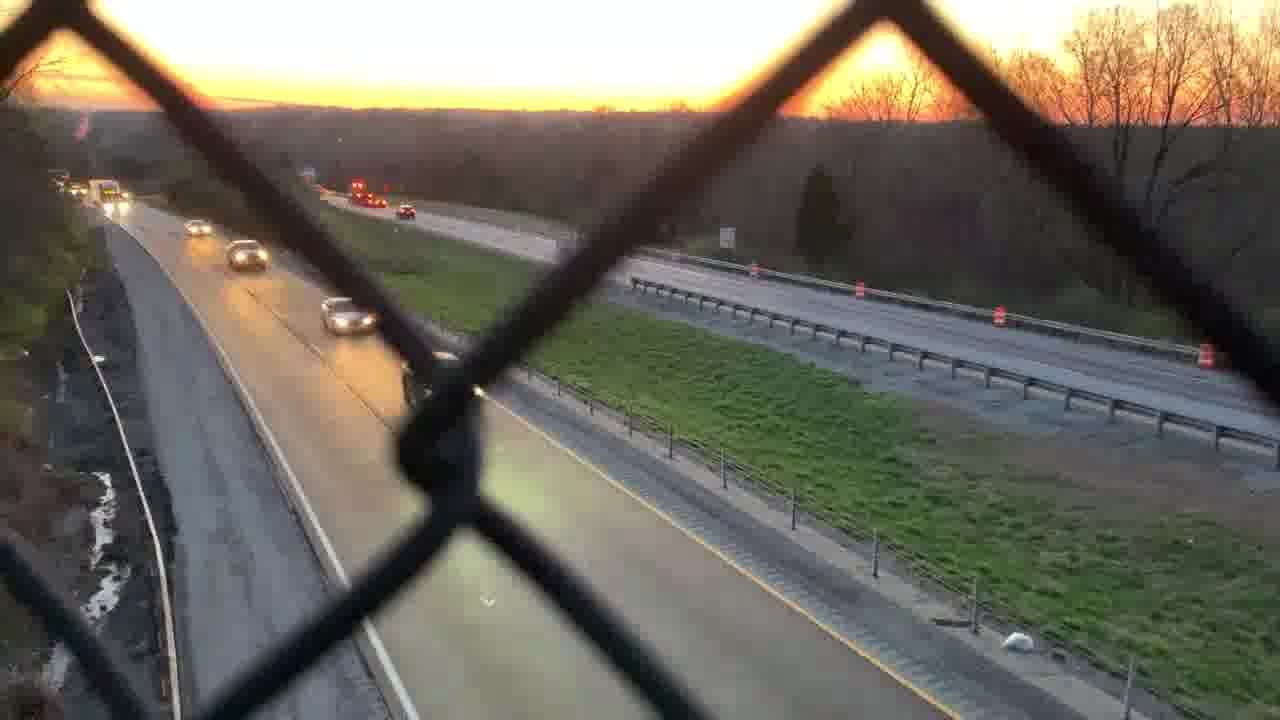smallCar: (320, 291, 378, 338)
